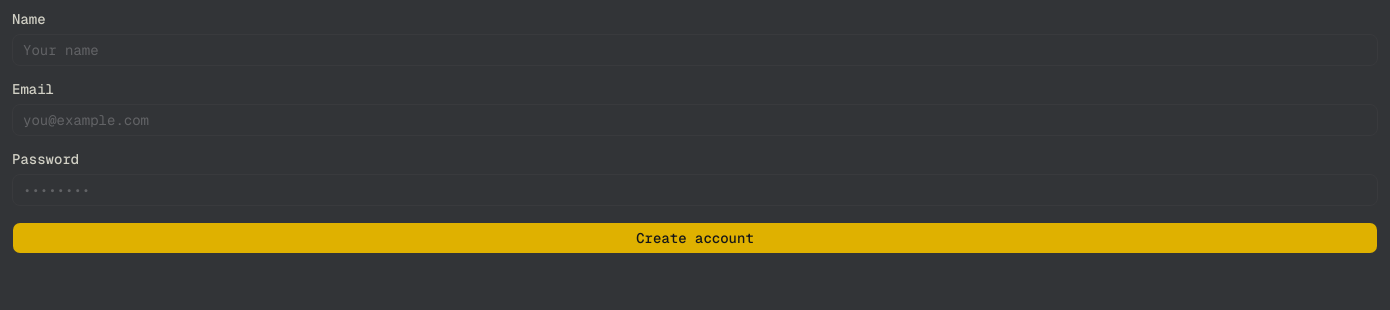
Test case: RegisterForm › shows default error message when server error has no message
Type "John" into the field with placeholder "Your name".
click(695, 50); type("John")  # box [12,34,1378,66]
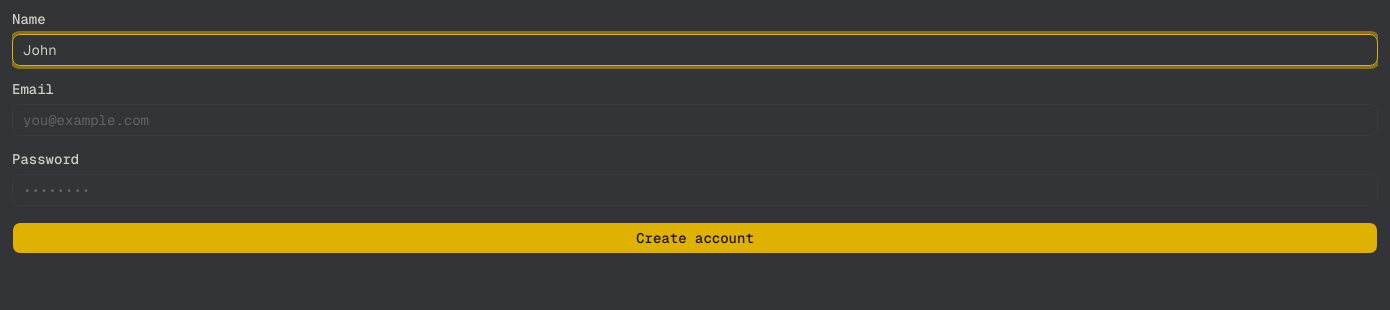
Type "john@example.com" into the field with placeholder "you@example.com".
click(695, 120); type("john@example.com")  # box [12,104,1378,136]
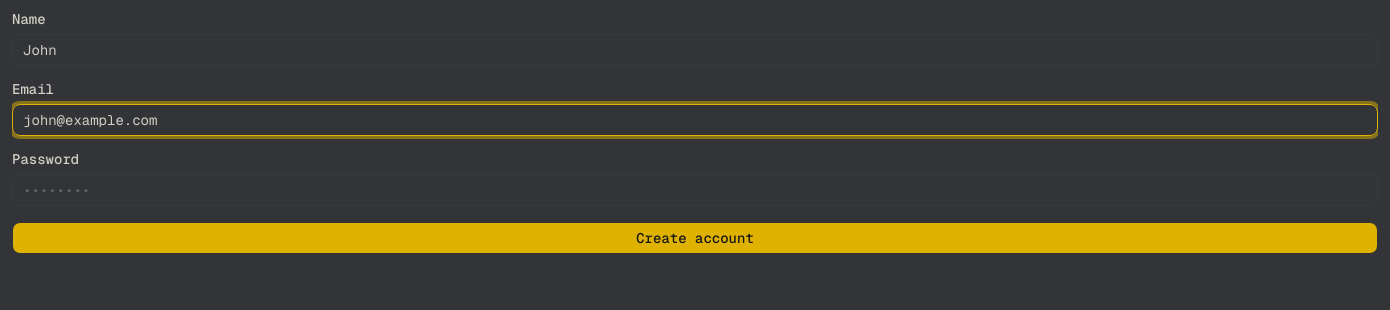
Type "12345678" into the password field with placeholder "••••••••".
click(695, 190); type("12345678")  # box [12,174,1378,206]
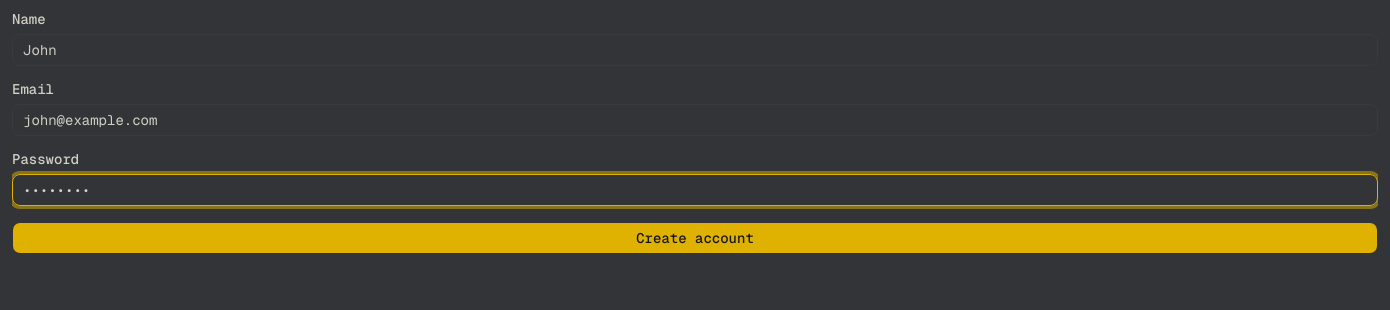
Click the button "Create account".
click(695, 238)  # box [12,222,1378,254]
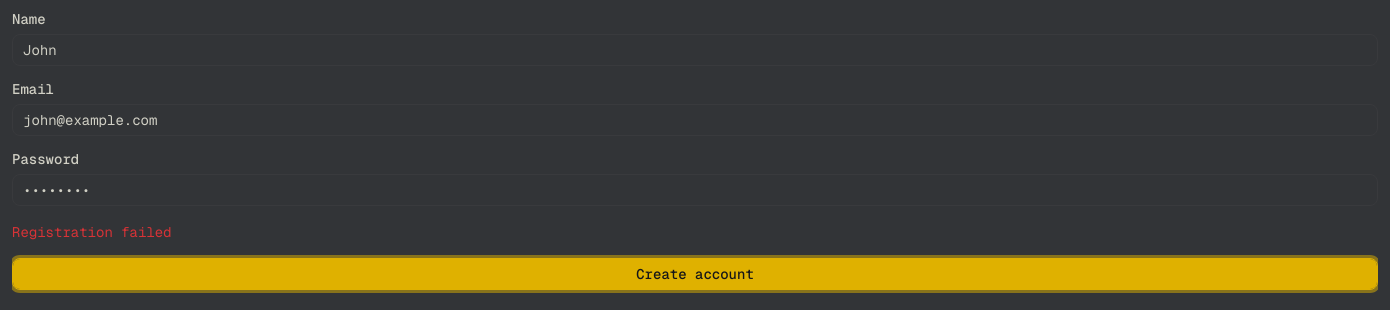
Now the text "Registration failed" is shown, box [12,223,172,241]
